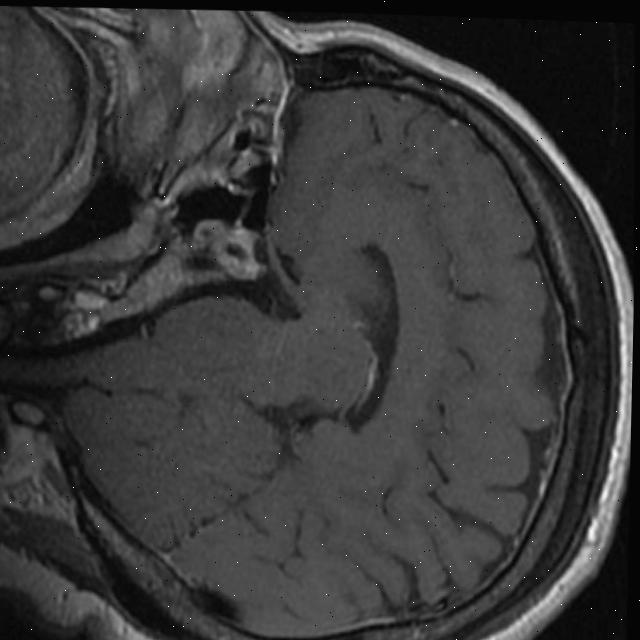Pituitary: (190, 216, 265, 282)
